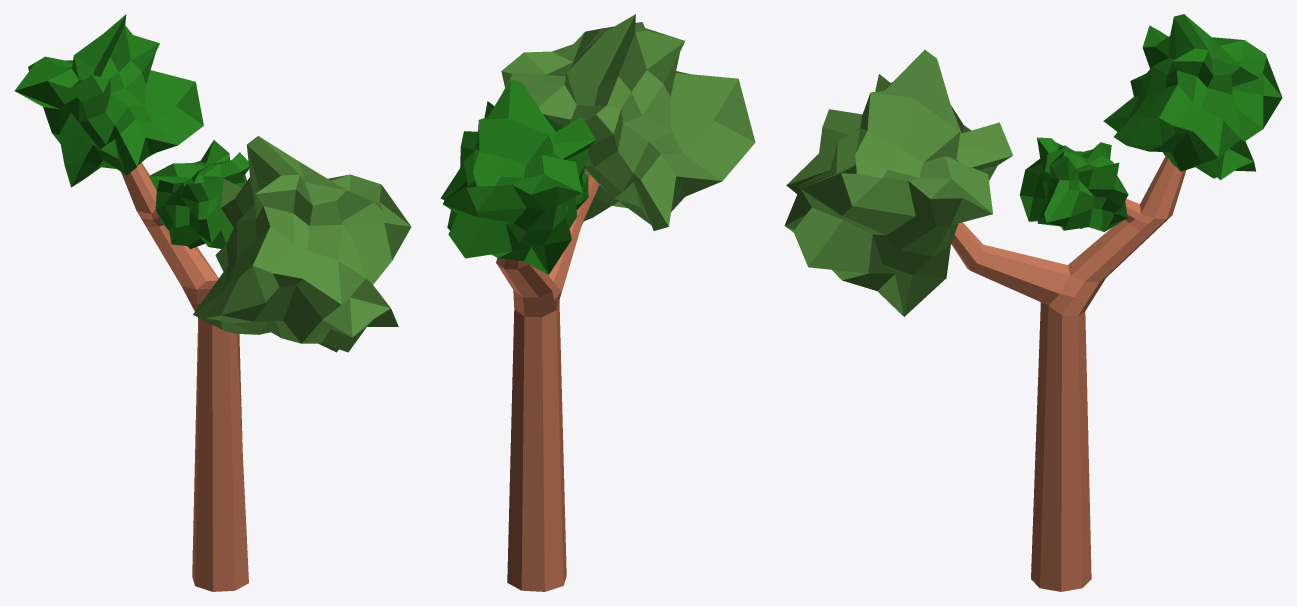
The model's file is Tree_03_summer_vc.fbx.
3 views of the same model, side by side, from view 1: azimuth 30°, elevation 25°; view 2: azimuth 150°, elevation 25°; view 3: azimuth 270°, elevation 25° (orthographic). The views are drawn at different scales.
Parts seen in each view (by area): view 1: Tree_03_summer_vc; view 2: Tree_03_summer_vc; view 3: Tree_03_summer_vc.
Part boxes in pixels (<box>): Tree_03_summer_vc: <box>14,14,411,591</box>; Tree_03_summer_vc: <box>440,14,755,591</box>; Tree_03_summer_vc: <box>784,14,1282,591</box>.
Bounding box in the file's own units: 2.02 × 4.62 × 3.8.
